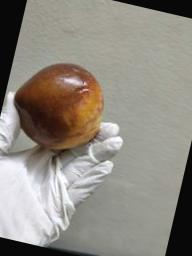Apple Rotten: (4, 54, 114, 172)
